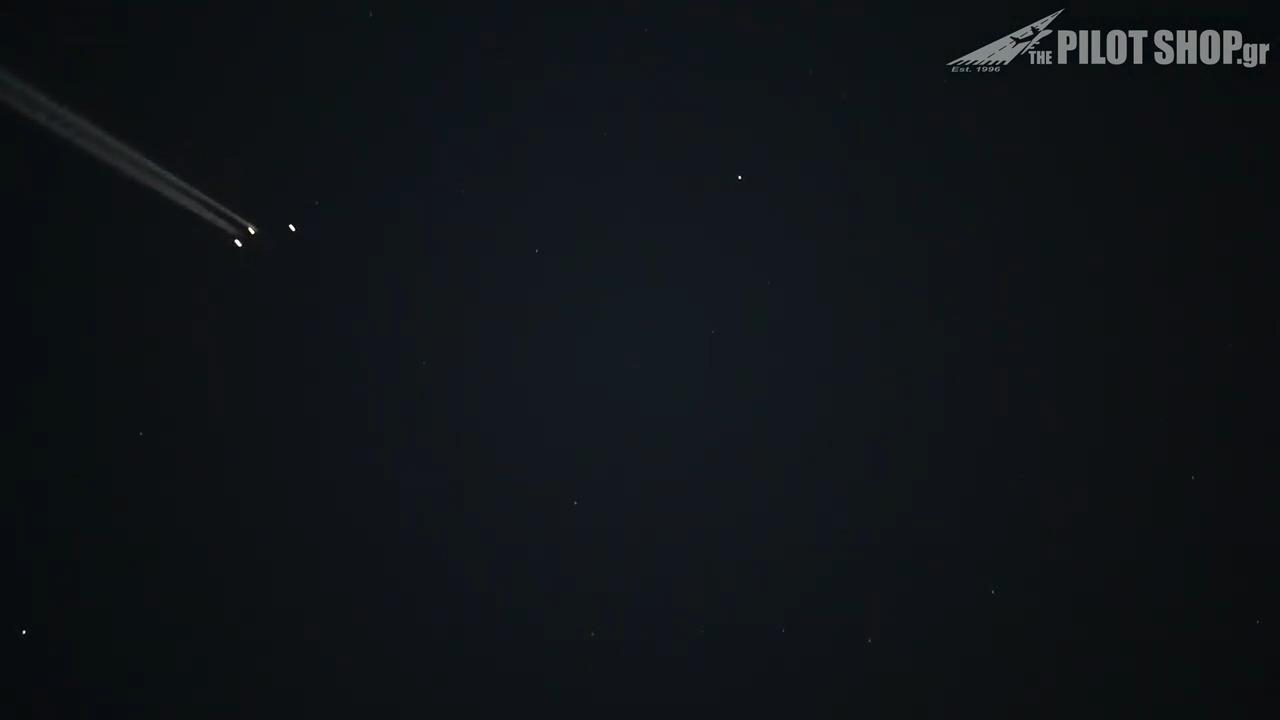Plane: (3, 3, 332, 268)
